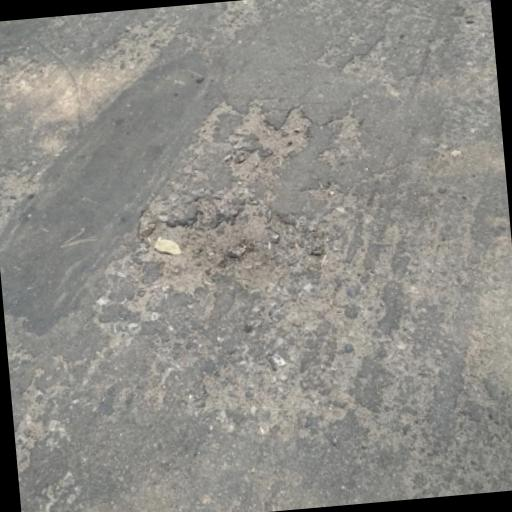pothole: (128, 188, 313, 304), (198, 94, 318, 186)
